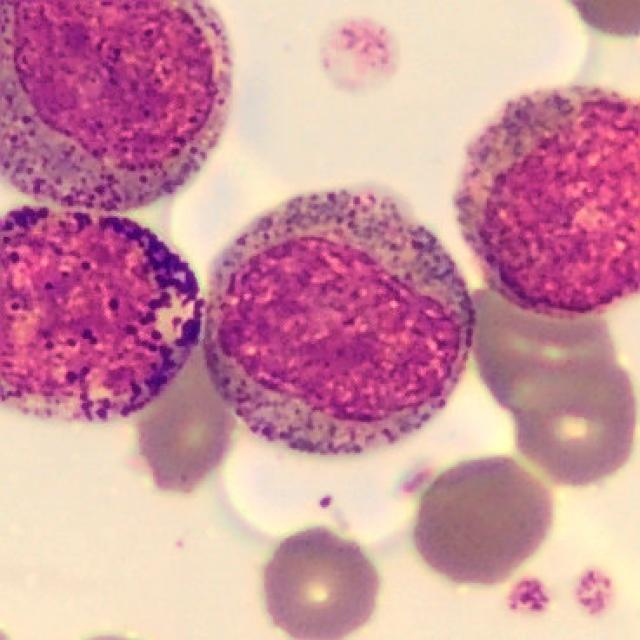Mielocito: (200, 183, 475, 457), (0, 0, 233, 214), (456, 85, 640, 318)
